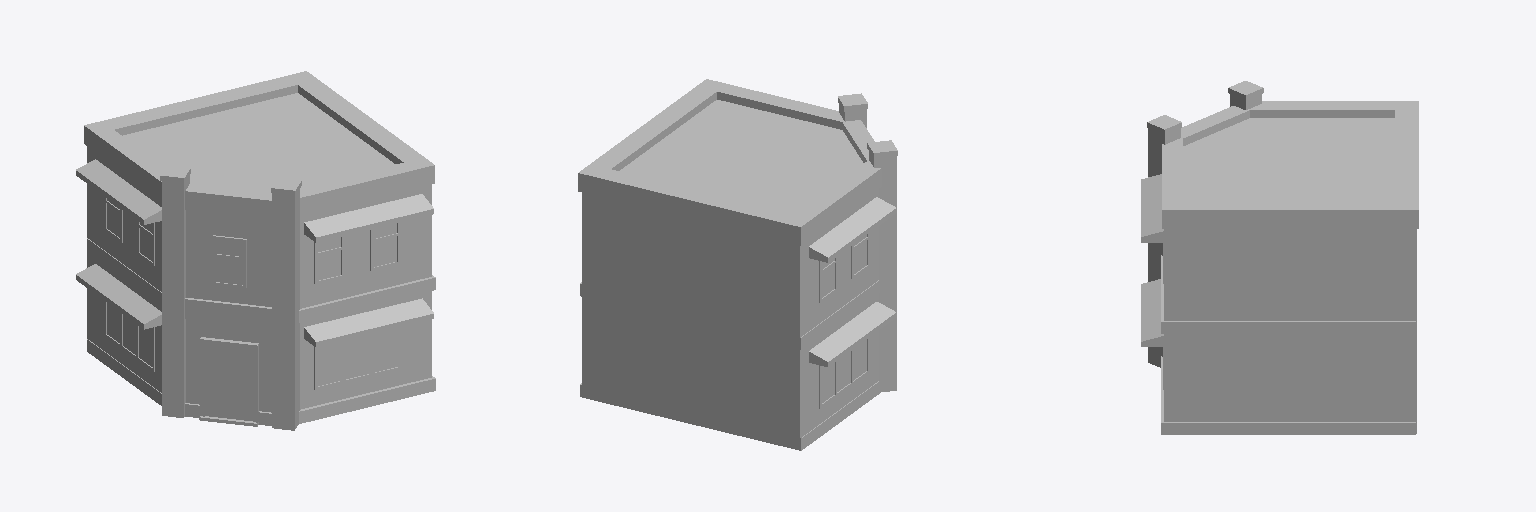
File: clothing-shop.obj
3 views of the same model, side by side, from view 1: azimuth 30°, elevation 25°; view 2: azimuth 150°, elevation 25°; view 3: azimuth 270°, elevation 25° (orthographic).
Visible parts, largest first — view 1: Building_Clothing; view 2: Building_Clothing; view 3: Building_Clothing.
Part boxes in pixels (bbox=[...]): Building_Clothing: bbox=[76, 71, 435, 430]; Building_Clothing: bbox=[578, 79, 897, 450]; Building_Clothing: bbox=[1141, 81, 1418, 434].
Bounding box in the file's own units: 477 × 457 × 479.